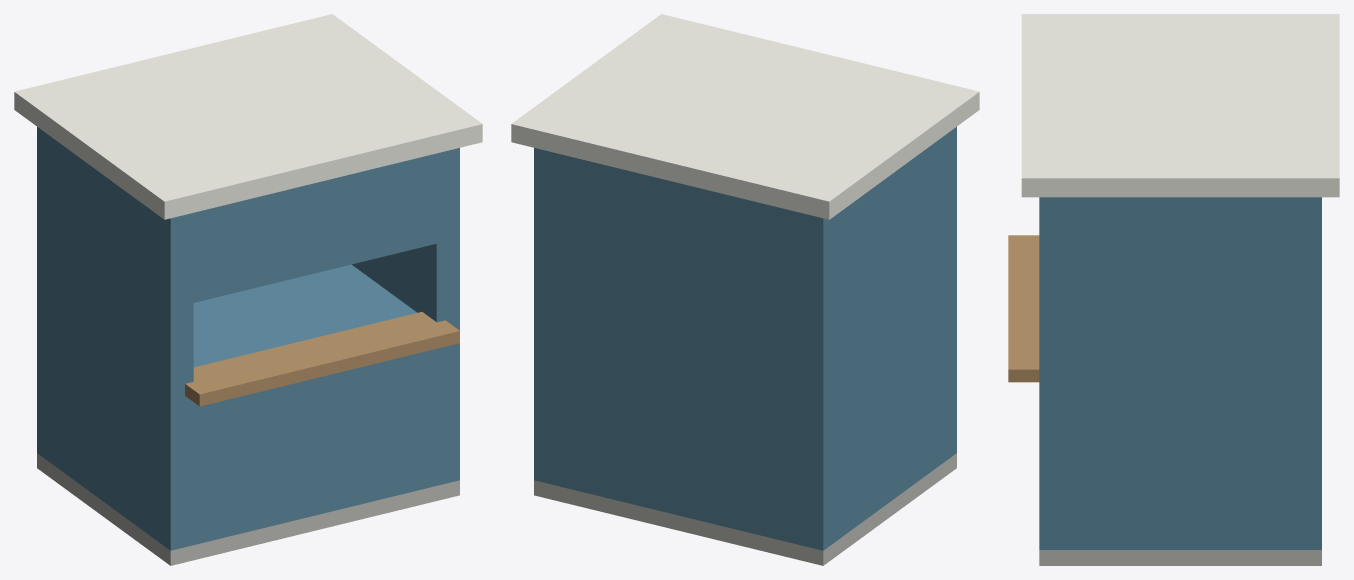
The model's file is ticketbooth.glb.
3 views of the same model, side by side, from view 1: azimuth 30°, elevation 25°; view 2: azimuth 150°, elevation 25°; view 3: azimuth 270°, elevation 25° (orthographic). The views are drawn at different scales.
Visible parts, largest first — view 1: ticket-booth; view 2: ticket-booth; view 3: ticket-booth.
Boxes of the visible parts, x1=… form: ticket-booth: x1=14, y1=14, x2=482, y2=565; ticket-booth: x1=511, y1=14, x2=979, y2=565; ticket-booth: x1=1008, y1=14, x2=1339, y2=565.
Size of the model in its own units: 2.2 by 2.47 by 1.88.
